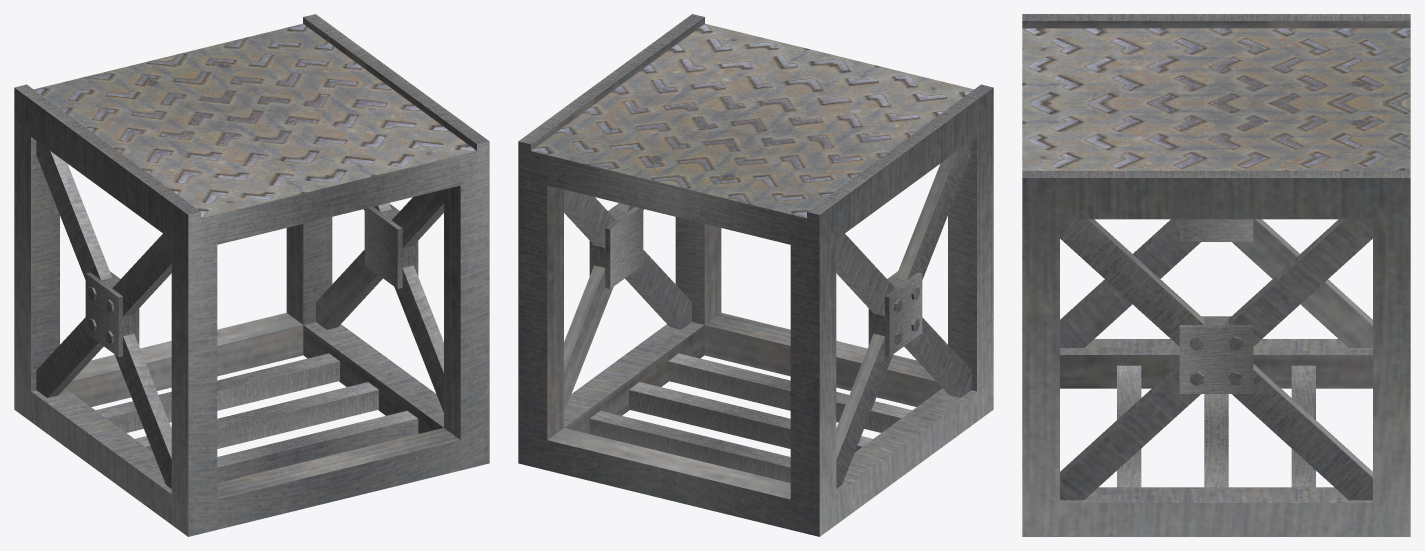
File: floor.glb
3 renders of one model, left to right at view 1: azimuth 30°, elevation 25°; view 2: azimuth 150°, elevation 25°; view 3: azimuth 270°, elevation 25°, orthographic. The views are drawn at different scales.
Parts seen in each view (by area): view 1: Cube; view 2: Cube; view 3: Cube.
Boxes of the visible parts, bbox=[...] form: Cube: bbox=[14, 14, 489, 536]; Cube: bbox=[518, 14, 993, 536]; Cube: bbox=[1022, 14, 1410, 536].
Size of the model in its own units: 2.02 by 2.04 by 2.
Materials: 1 (1 with a texture image).
